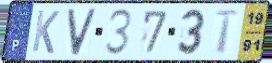3: (103, 7, 134, 57), (176, 8, 206, 57)
7: (143, 9, 168, 55)
K: (30, 8, 62, 56)
T: (213, 9, 241, 55)
V: (66, 7, 99, 57)
